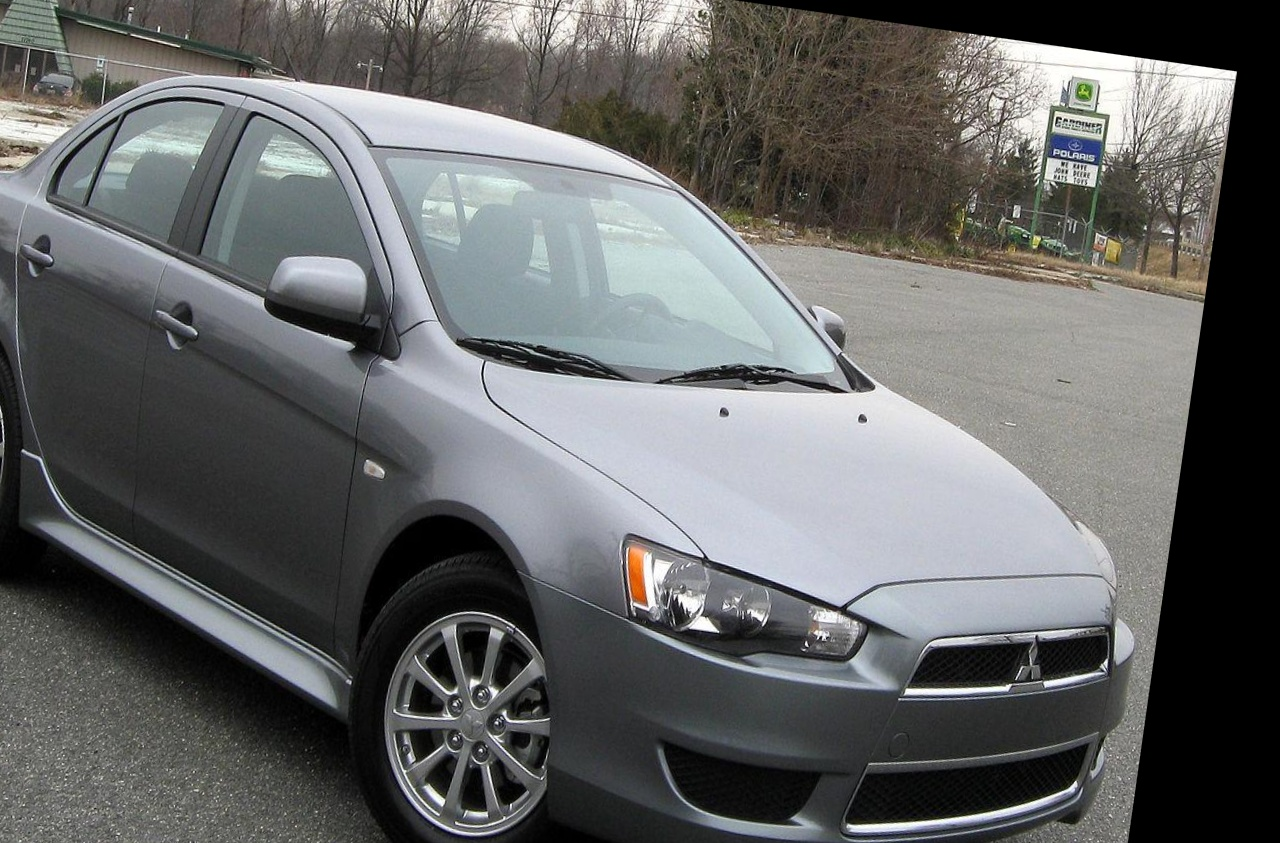car: (0, 0, 1226, 843)
